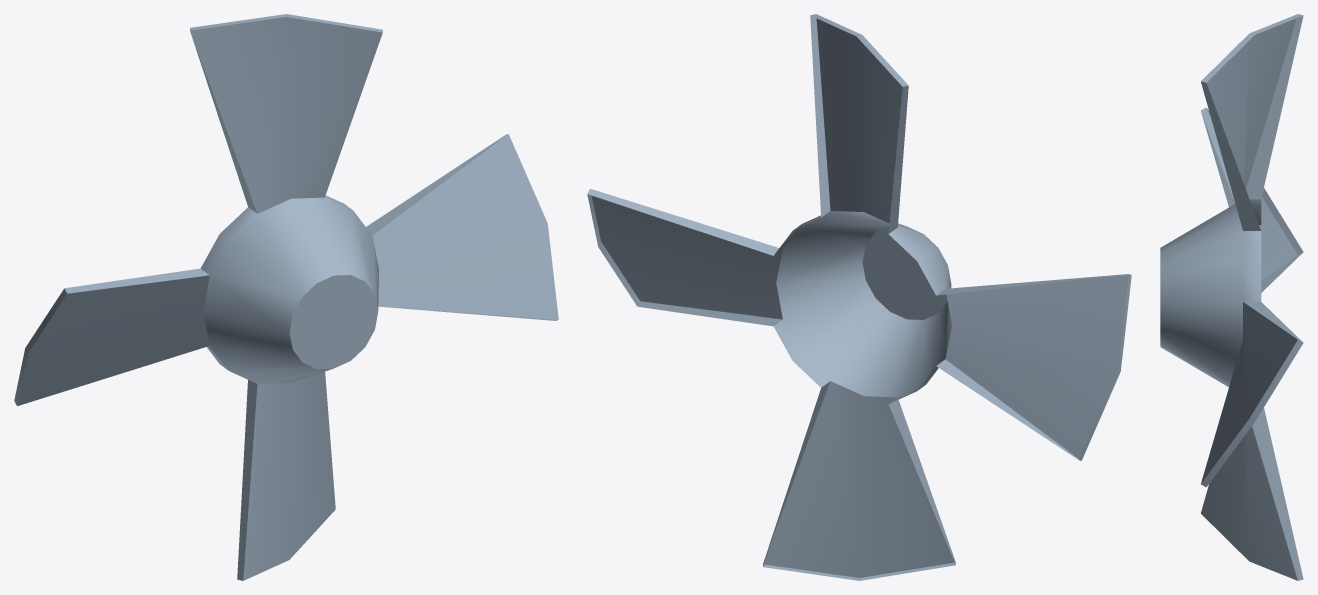
The model's file is factory_fan.glb.
The picture shows the model from 3 angles, left to right: view 1: azimuth 30°, elevation 25°; view 2: azimuth 150°, elevation 25°; view 3: azimuth 270°, elevation 25°; orthographic projection. The views are drawn at different scales.
Parts seen in each view (by area): view 1: Cylinder.002; view 2: Cylinder.002; view 3: Cylinder.002.
Part boxes in pixels (x1,y1,x2,y2): Cylinder.002: (14,14,558,580); Cylinder.002: (587,14,1131,580); Cylinder.002: (1160,14,1303,580).
Size of the model in its own units: 1.52 by 1.52 by 0.3748.
